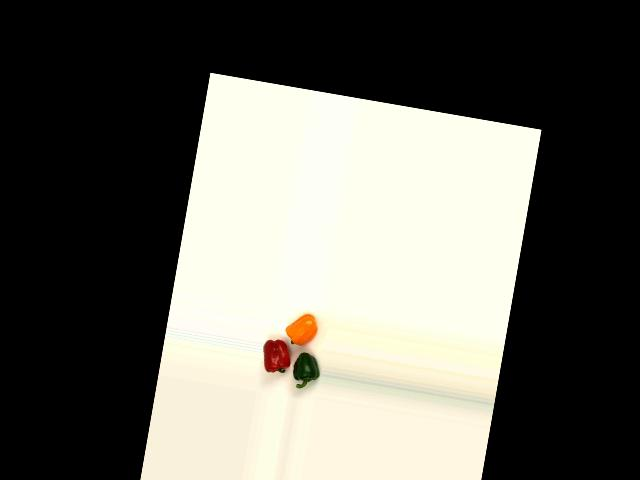bell_pepper: (288, 350, 323, 392)
